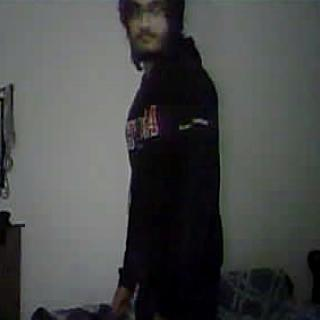HOSA hoodie: (125, 69, 222, 286)
Navy Sweatpants: (133, 285, 217, 320)
